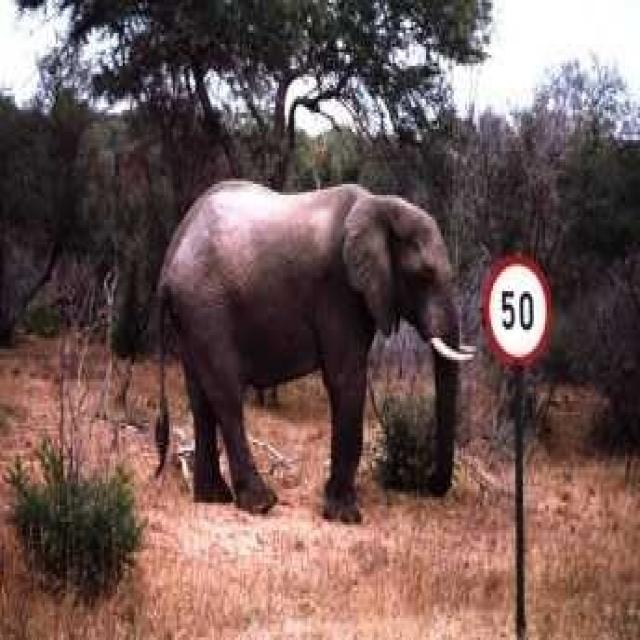Elephant: (151, 176, 476, 522)
